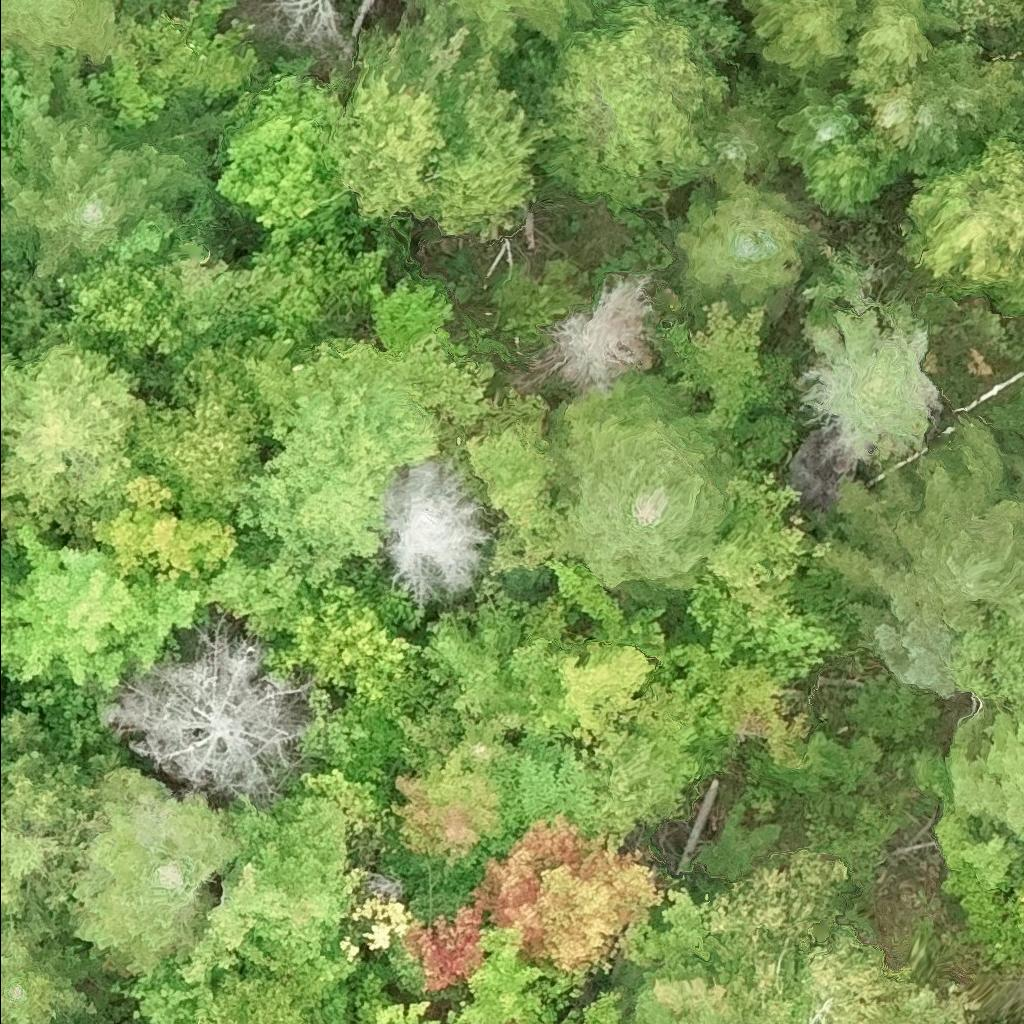crown: (222, 365, 440, 588), (828, 412, 1023, 638), (546, 366, 735, 590), (0, 74, 204, 278), (109, 610, 312, 809), (65, 764, 242, 974), (0, 523, 211, 692), (0, 319, 150, 537), (468, 809, 666, 974), (545, 0, 728, 177), (183, 795, 348, 989), (700, 848, 849, 1023), (893, 124, 1023, 315), (212, 71, 357, 241), (430, 49, 555, 238), (126, 359, 271, 521), (0, 706, 98, 944), (909, 747, 1023, 942), (262, 572, 423, 701), (330, 50, 449, 224), (674, 170, 821, 305), (153, 199, 280, 343), (802, 306, 932, 443), (90, 472, 242, 582), (440, 912, 590, 1023), (383, 461, 496, 604), (530, 273, 657, 394), (682, 568, 843, 663), (251, 333, 414, 417), (388, 747, 500, 869), (57, 253, 188, 357), (202, 531, 317, 649), (237, 241, 342, 363), (437, 0, 611, 73), (419, 603, 529, 716), (551, 635, 659, 748), (846, 595, 966, 696), (618, 675, 729, 783), (589, 725, 688, 846), (351, 0, 471, 98), (0, 0, 121, 93), (462, 423, 560, 537), (791, 927, 905, 1023), (945, 706, 1023, 846), (839, 0, 956, 88), (0, 926, 105, 1023), (290, 206, 386, 308), (106, 0, 205, 97), (621, 958, 759, 1023), (739, 0, 862, 72), (627, 885, 720, 977), (946, 608, 1023, 716), (181, 0, 260, 105), (773, 78, 866, 167), (399, 901, 486, 995), (409, 330, 496, 421), (194, 965, 326, 1023), (111, 954, 217, 1023), (907, 60, 975, 164), (82, 52, 167, 134), (547, 560, 630, 643), (371, 273, 453, 354), (701, 101, 781, 178), (722, 464, 798, 532), (256, 0, 346, 54), (862, 76, 923, 152), (978, 869, 1023, 969), (0, 44, 54, 127), (648, 974, 733, 1011), (552, 983, 626, 1023), (372, 998, 444, 1023), (0, 116, 22, 152), (0, 500, 20, 538), (415, 0, 426, 16), (0, 467, 2, 485)
